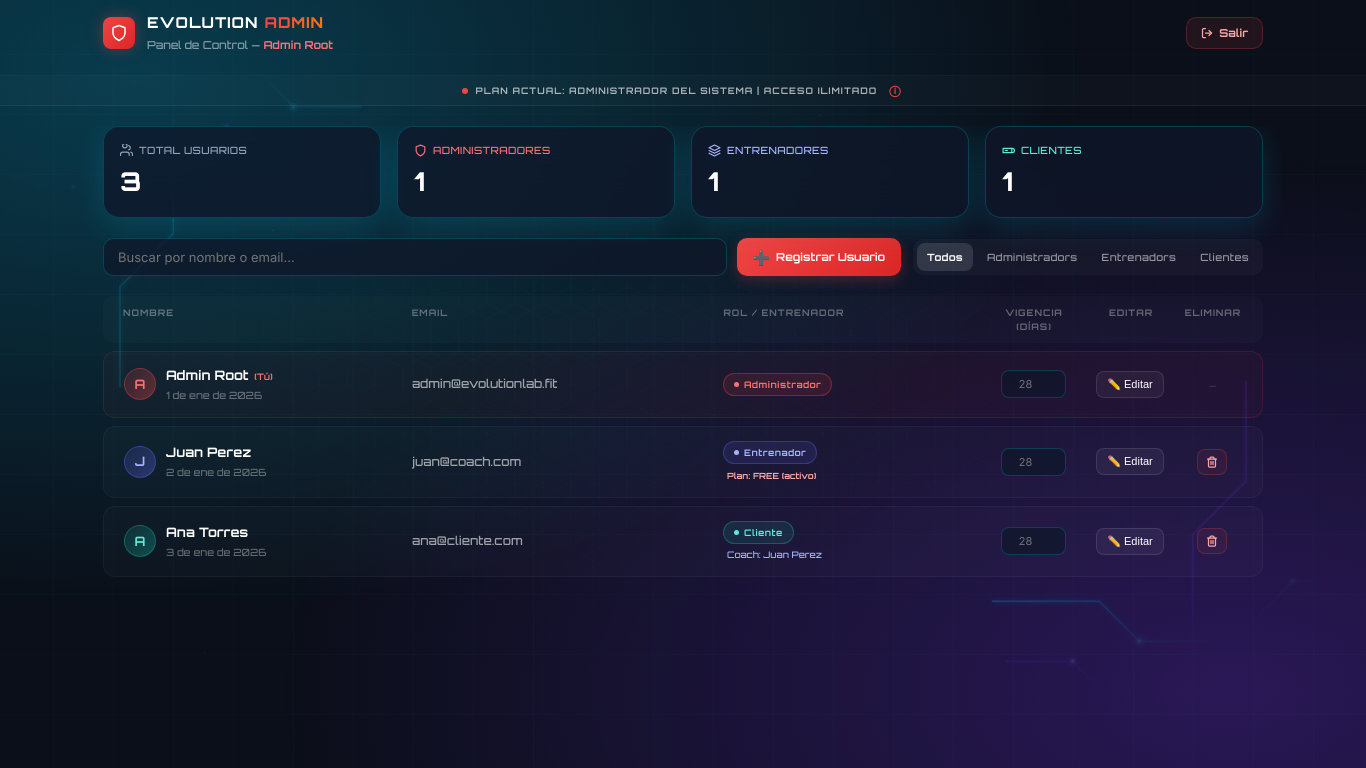
Test: AdminDashboard — cerrar sesión › pide confirmación antes de cerrar sesión, y no hace nada si se cancela
This screenshot has width=1366, height=768.
Check: the text "Juan Perez" is shown, box [166,444,251,460]
Click the button "Salir": coordinates (1225, 32) [1186,16,1263,48]
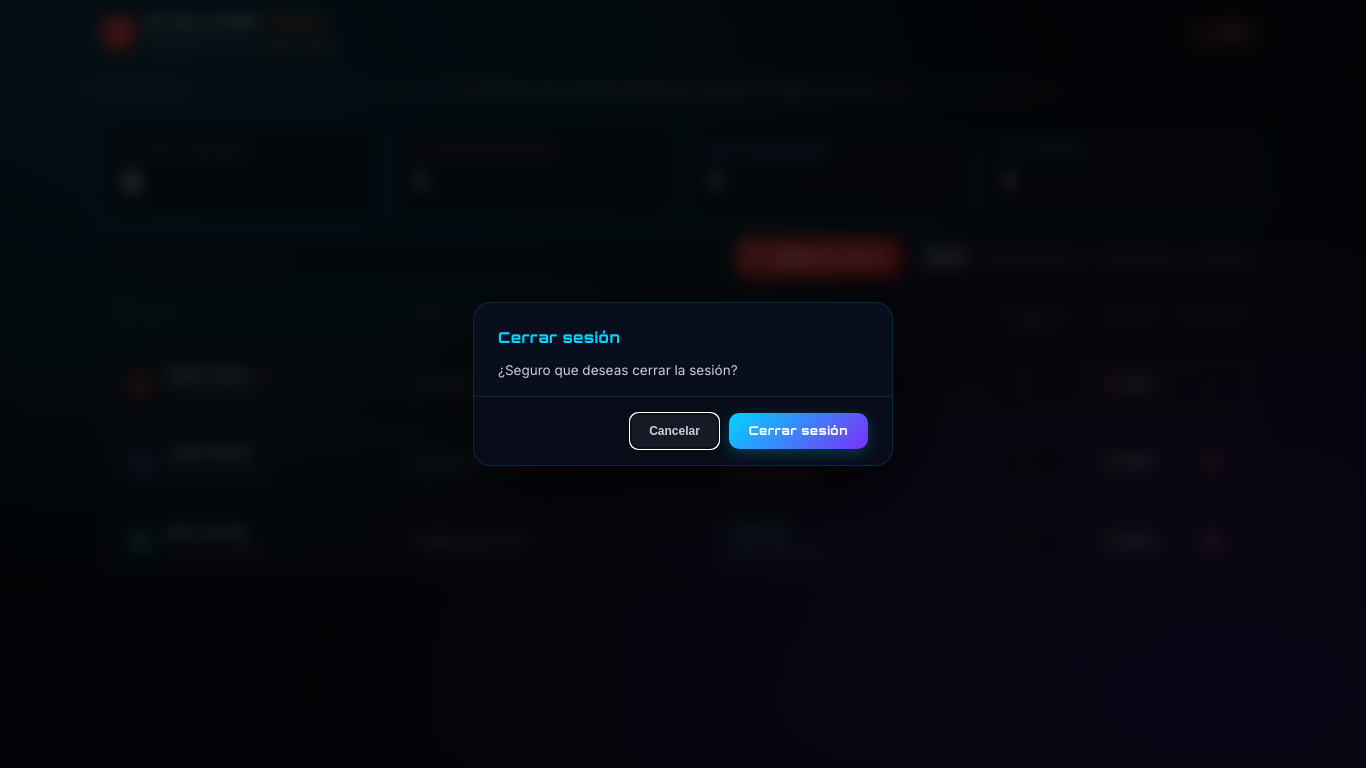
Click the button "Cancelar": coordinates (674, 431) [630,413,719,449]
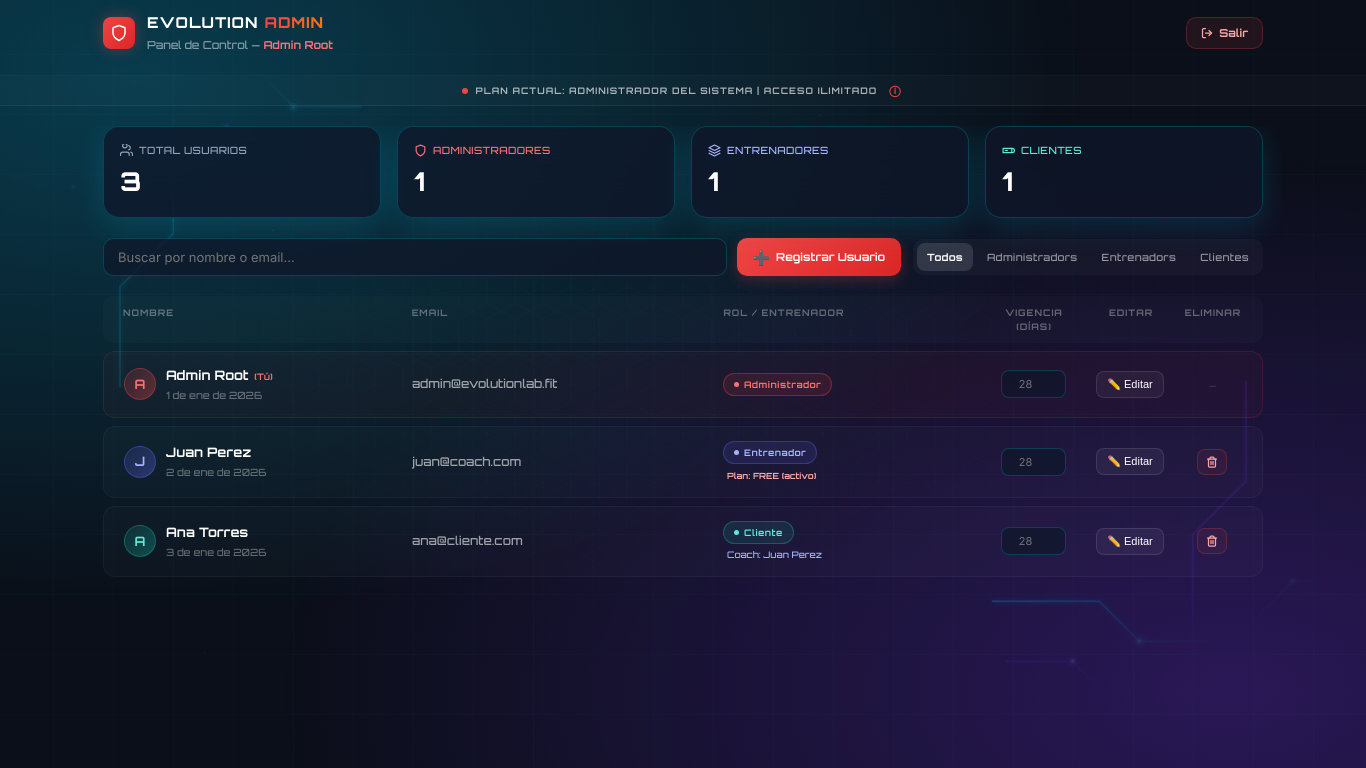
Check: the dialog is gone
